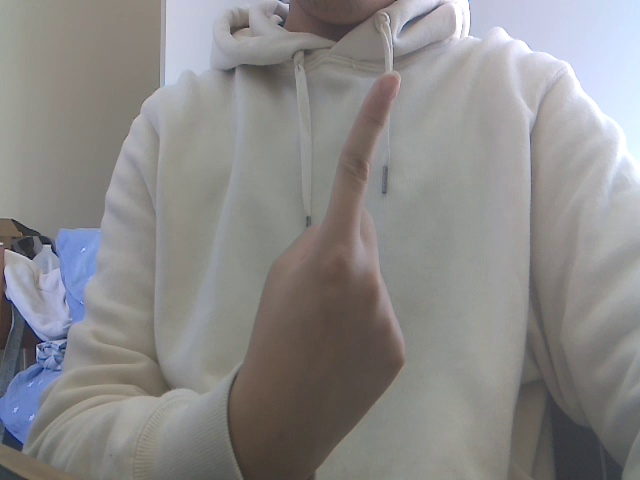hand_gesture_1: (212, 54, 425, 480)
